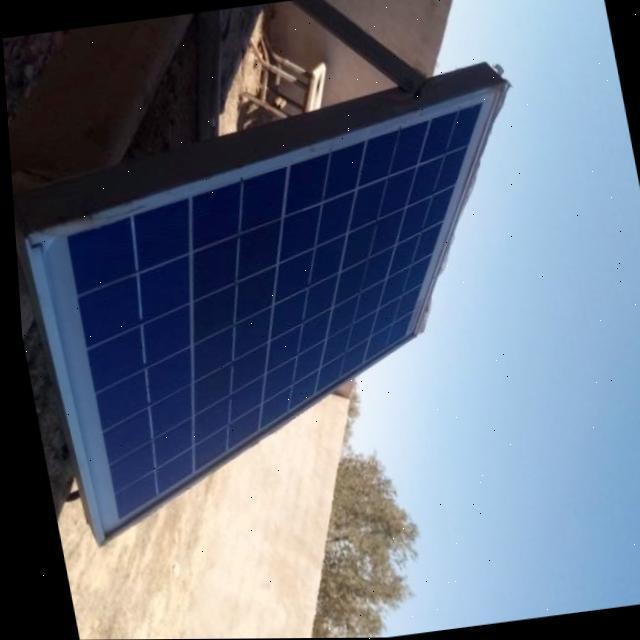Normal Solar Panel: (10, 86, 574, 544)
